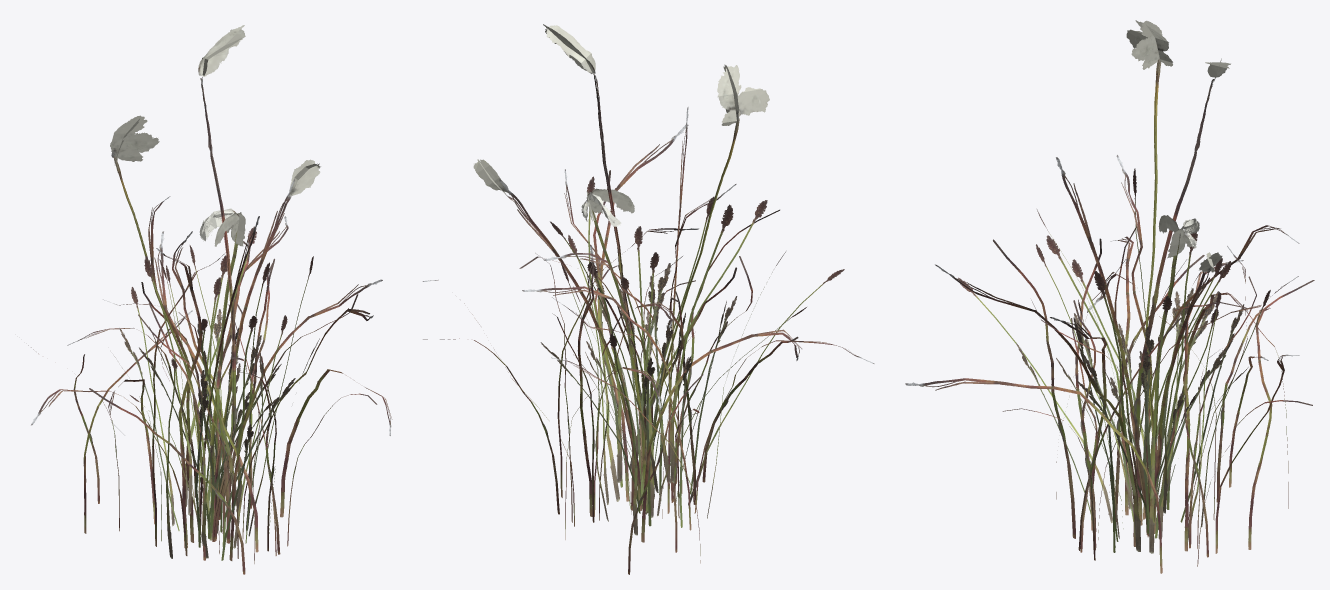
File: cotton.glb
The picture shows the model from 3 angles, left to right: view 1: azimuth 30°, elevation 25°; view 2: azimuth 150°, elevation 25°; view 3: azimuth 270°, elevation 25°; orthographic projection. The views are drawn at different scales.
Visible parts, largest first — view 1: cotton_v2_lod0, cotton_v0_lod0, cotton_v1_lod0; view 2: cotton_v2_lod0, cotton_v0_lod0, cotton_v1_lod0; view 3: cotton_v2_lod0, cotton_v0_lod0, cotton_v1_lod0.
Part boxes in pixels (left/top/right/bottom): cotton_v2_lod0: left=31, top=25, right=392, bottom=574; cotton_v0_lod0: left=28, top=216, right=377, bottom=560; cotton_v1_lod0: left=114, top=255, right=319, bottom=560; cotton_v2_lod0: left=423, top=24, right=874, bottom=530; cotton_v0_lod0: left=422, top=196, right=801, bottom=574; cotton_v1_lod0: left=540, top=176, right=844, bottom=535; cotton_v2_lod0: left=905, top=20, right=1312, bottom=573; cotton_v0_lod0: left=1002, top=168, right=1314, bottom=560; cotton_v1_lod0: left=958, top=232, right=1270, bottom=553.
Size of what is drawn, in the model's own units: 0.6527 by 0.8755 by 0.6249.
1 material, 1 textured.
